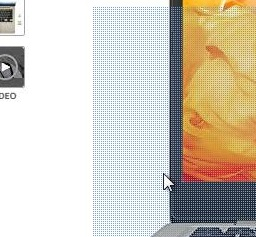cursor: (161, 171, 177, 194)
